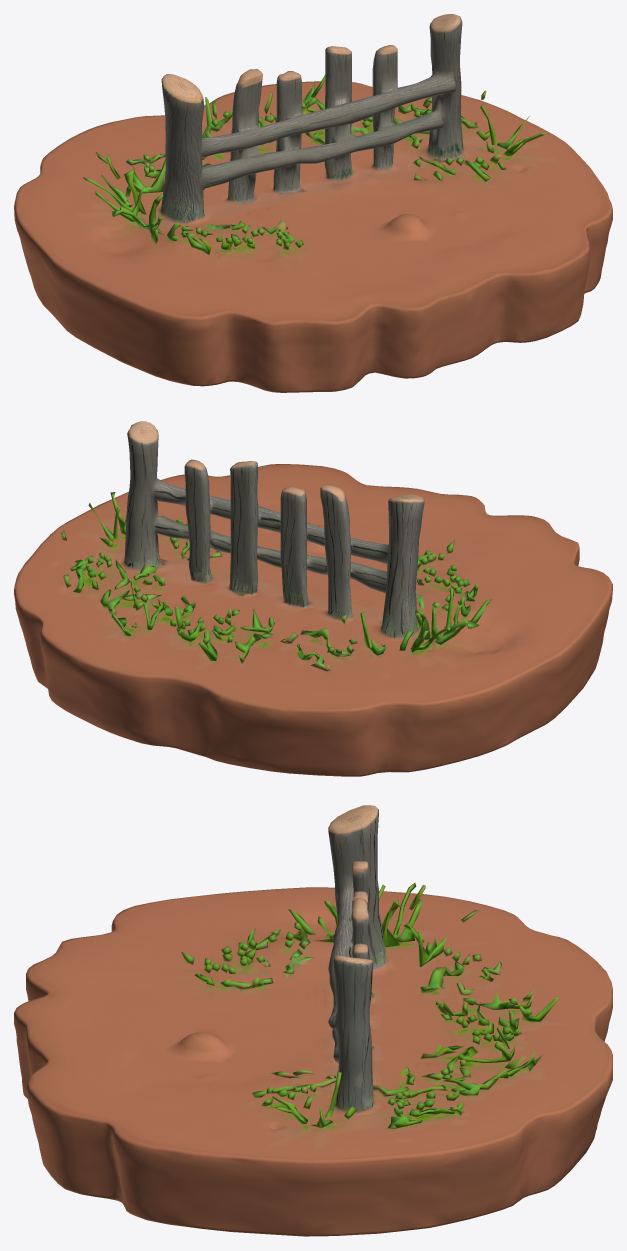
Rendered from bog_fence_sunken.glb.
3 views of the same model, one above another, from view 1: azimuth 30°, elevation 25°; view 2: azimuth 150°, elevation 25°; view 3: azimuth 270°, elevation 25° (orthographic). The views are drawn at different scales.
Size of the model in its own units: 1.91 by 0.7593 by 1.75.
Materials: 1 (1 with a texture image).
